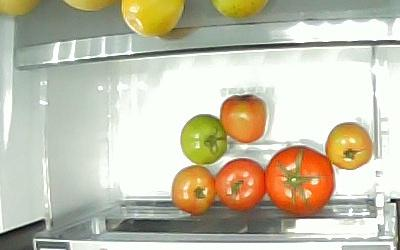tomato: (264, 145, 335, 214), (214, 157, 266, 211), (180, 112, 228, 164), (324, 120, 373, 170), (219, 93, 267, 143), (170, 163, 217, 214)
